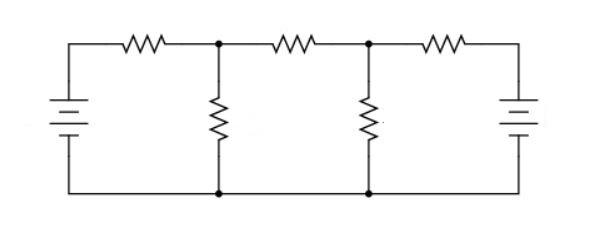resistor: (346, 83, 394, 163), (404, 23, 479, 66), (199, 84, 243, 154), (108, 27, 181, 68), (259, 23, 327, 65)
